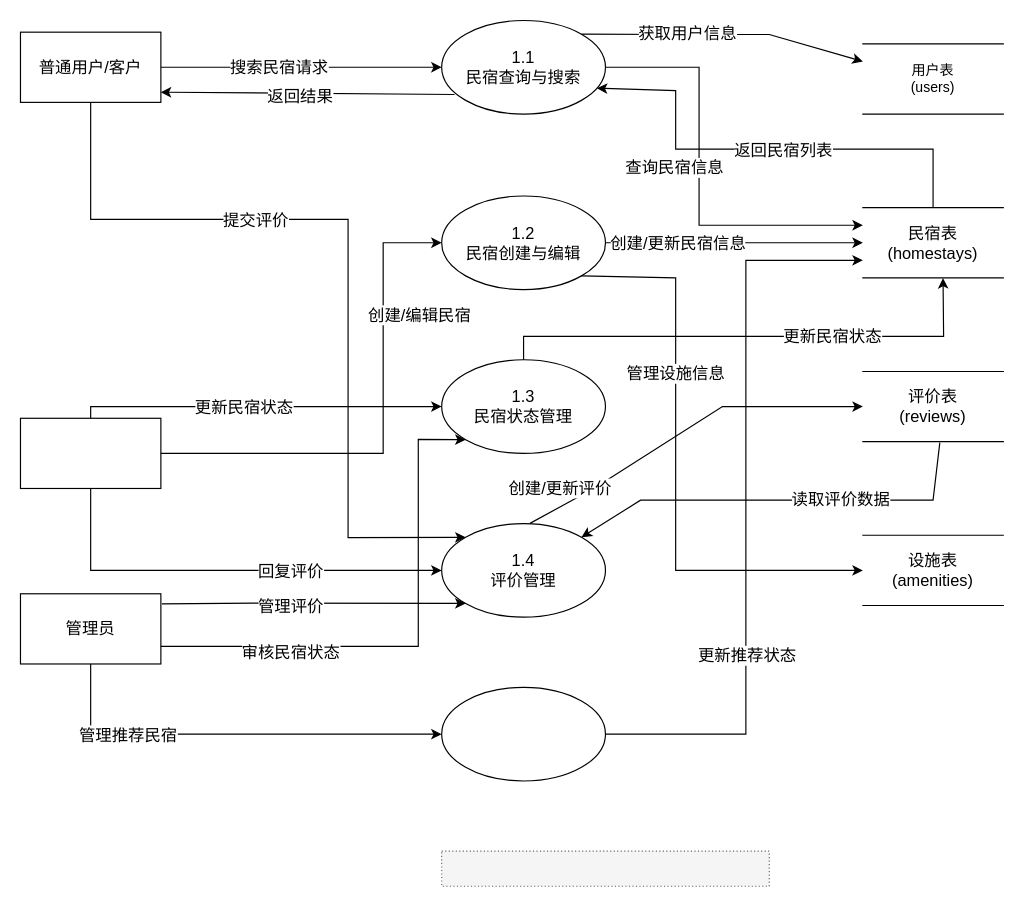
This 1024x907 diagram has some shape labels left out. The shapes that lost their labels are listed below. From the top down, each one's centre as x and y in pixels, then its label:
At (x=90, y=452): "房东".
At (x=523, y=733): "1.5 民宿统计与推荐".
At (x=605, y=868): "民宿管理模块 1 层数据流图".
